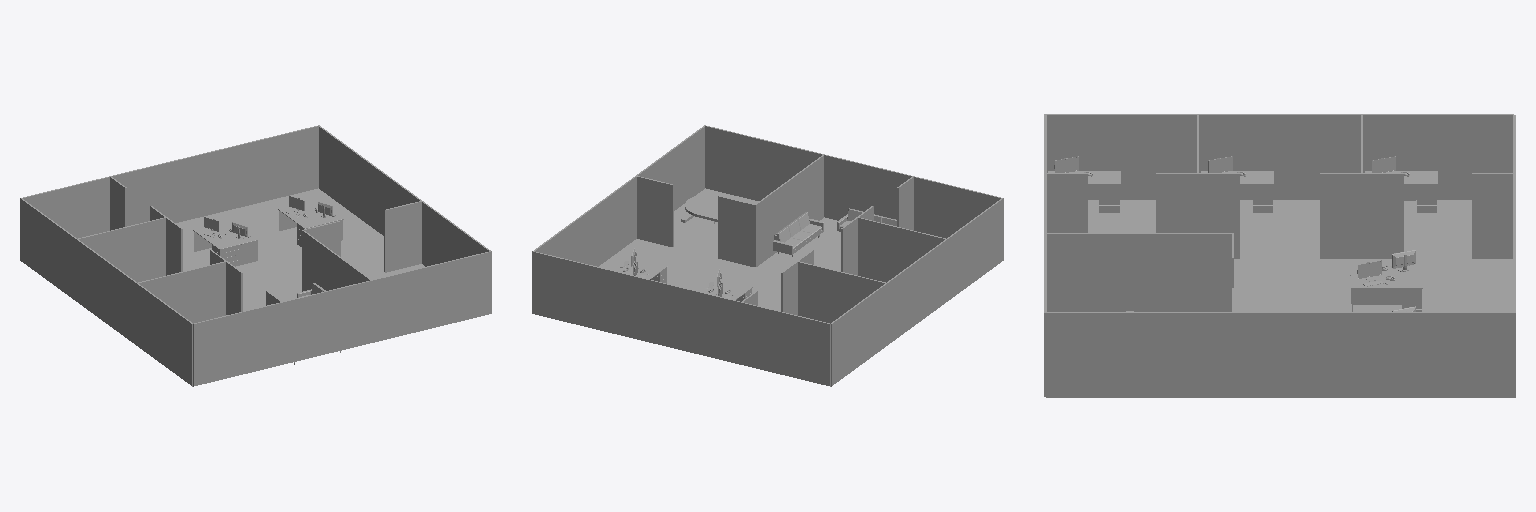
The robot description file, URDF, robot "office":
<?xml version="1.0"?>
<robot name="office">
    <material name="grey">
        <color rgba="0.7 0.7 0.7 1.0"/>
    </material>

    <link name="base">
        <visual>
            <origin rpy="1.5707 0 0" xyz="0 0 0"/>
            <geometry>
                <mesh scale="0.4 0.4 0.4" filename="package://office_simple/office.obj"/>
            </geometry>
            <material name="grey"/>
        </visual>
        <collision concave="yes">
            <origin rpy="1.5707 0 0" xyz="0 0 -0.017"/>
            <geometry>
                <mesh scale="0.4 0.4 0.4" filename="package://office_simple/office.obj"/>
            </geometry>
        </collision>
    </link>

</robot>

--- What the picture shows (computed from the rendered views, not written in the file) ---
3 views of the same robot in one strip: view 1: azimuth 30°, elevation 25°; view 2: azimuth 150°, elevation 25°; view 3: azimuth 270°, elevation 25° (orthographic).
Model office with 1 links and 0 joints (none), rooted at base, posed all joints at 0.
Links seen in each view (by area): view 1: base; view 2: base; view 3: base.
Boxes of the visible links, bbox=[...] form: base: bbox=[20, 125, 491, 386]; base: bbox=[532, 125, 1003, 386]; base: bbox=[1044, 114, 1515, 397].
Size in the robot's own frame: 8.04 by 8.04 by 1.72 metres.
Meshes: 1 distinct files referenced, 1 mesh visuals loaded (1 OBJ).